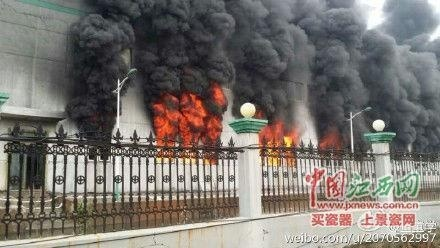fire: (149, 85, 224, 162), (255, 115, 297, 164), (318, 130, 341, 150)
